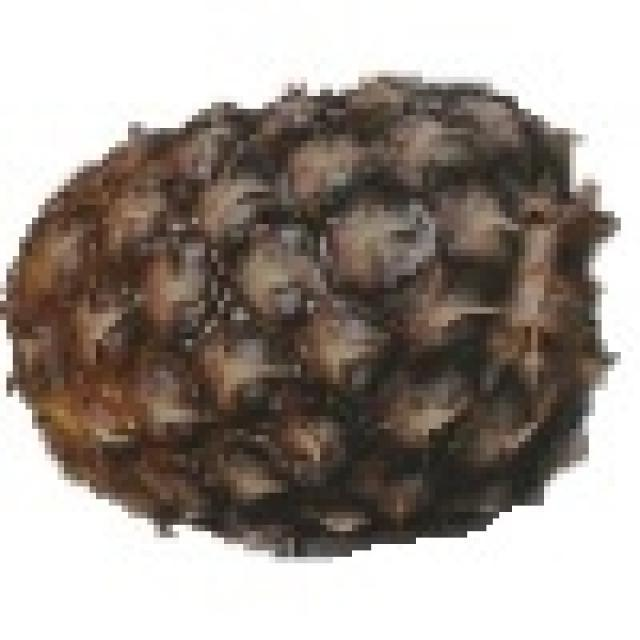pineapple: (0, 70, 602, 544)
